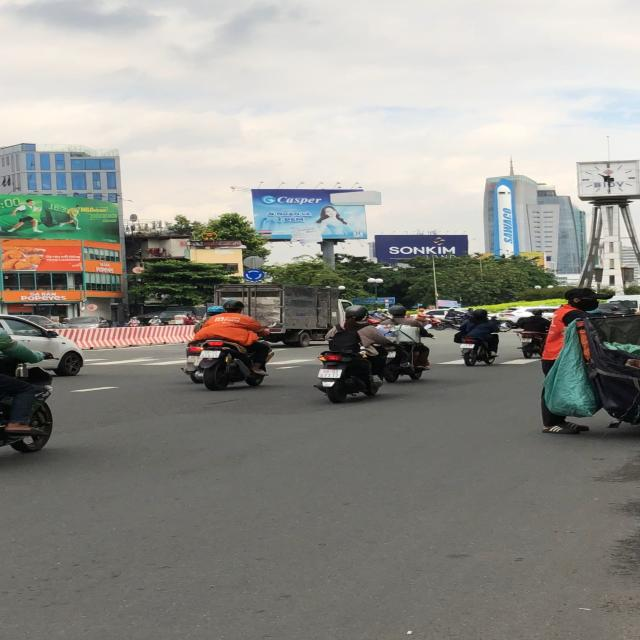Bien bao noi giao nhau chay theo vong xuyen: (242, 268, 268, 282)
